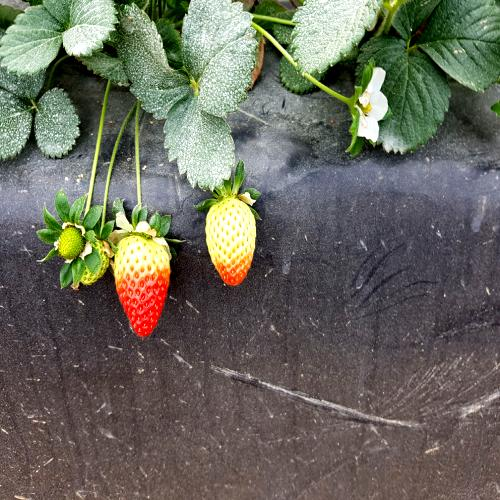partially-ripe: (111, 229, 174, 339), (201, 198, 262, 290)
